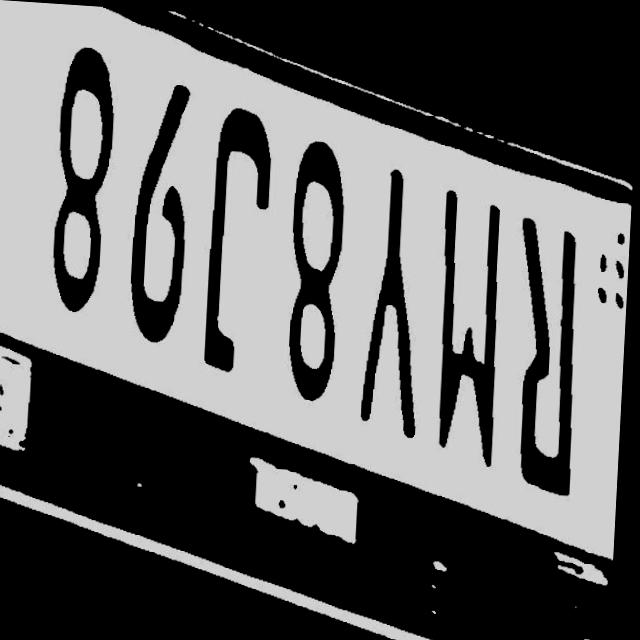8: (45, 42, 125, 313), (278, 136, 358, 399)
9: (128, 80, 206, 341)
j: (193, 102, 285, 381)
m: (430, 177, 514, 467)
r: (503, 203, 589, 490)
y: (353, 160, 434, 433)
